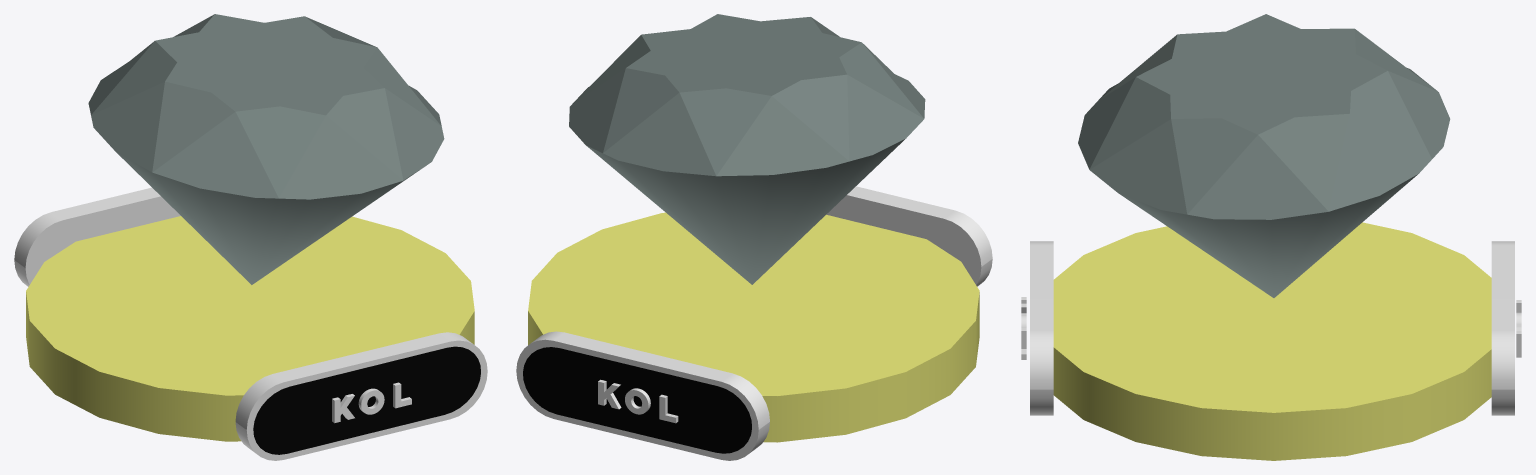
Rendered from diamond_objectgeo.fbx.
The picture shows the model from 3 angles, left to right: view 1: azimuth 30°, elevation 25°; view 2: azimuth 150°, elevation 25°; view 3: azimuth 270°, elevation 25°; orthographic projection. The views are drawn at different scales.
Visible parts, largest first — view 1: bananabase_geo1, Diamond_fbx, plaquecolor_geo2, plaquecolor_geo3, kolText_geo; view 2: bananabase_geo1, Diamond_fbx, plaquecolor_geo3, plaquecolor_geo2, kolText_geo1; view 3: bananabase_geo1, Diamond_fbx, plaquecolor_geo2, plaquecolor_geo3.
Part boxes in pixels (x1=…): bananabase_geo1: x1=26, y1=216, x2=474, y2=441; Diamond_fbx: x1=88, y1=14, x2=444, y2=284; plaquecolor_geo2: x1=235, y1=332, x2=487, y2=460; plaquecolor_geo3: x1=14, y1=187, x2=180, y2=286; kolText_geo: x1=332, y1=382, x2=411, y2=423; bananabase_geo1: x1=528, y1=212, x2=979, y2=442; Diamond_fbx: x1=569, y1=14, x2=925, y2=284; plaquecolor_geo3: x1=516, y1=331, x2=769, y2=460; plaquecolor_geo2: x1=826, y1=186, x2=992, y2=286; kolText_geo1: x1=598, y1=379, x2=678, y2=423; bananabase_geo1: x1=1053, y1=222, x2=1491, y2=460; Diamond_fbx: x1=1078, y1=14, x2=1450, y2=297; plaquecolor_geo2: x1=1030, y1=241, x2=1053, y2=415; plaquecolor_geo3: x1=1491, y1=241, x2=1514, y2=415.
Size of the model in its own units: 18.1 by 13.23 by 19.25.
